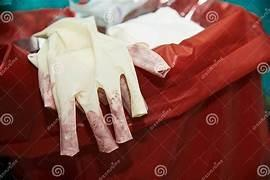Glove: (29, 18, 146, 155)
